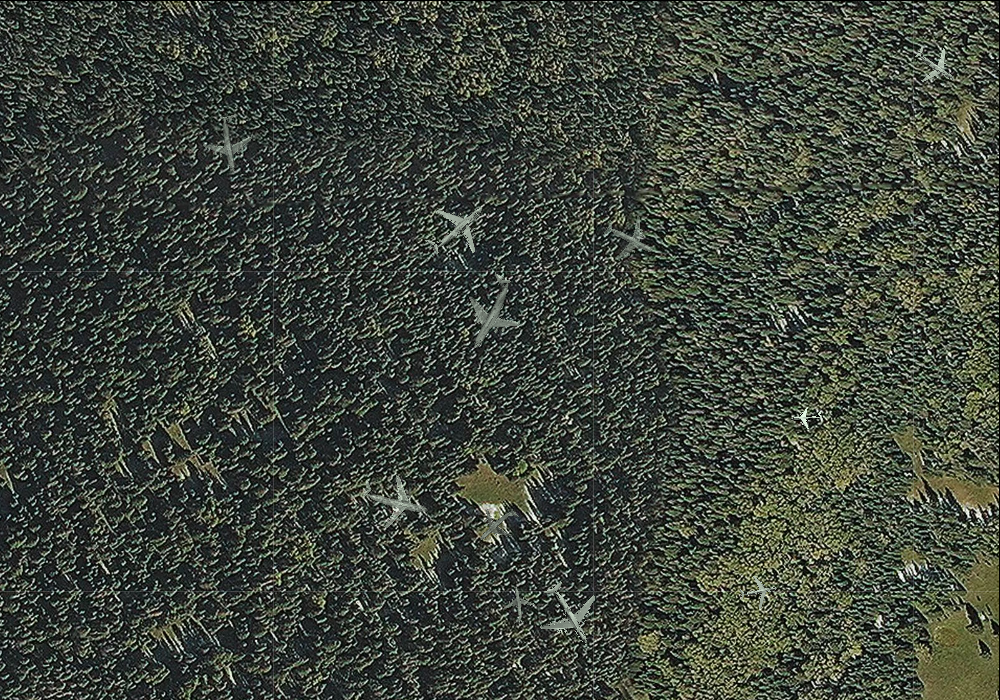plane: (440, 261, 539, 363), (411, 182, 502, 273), (524, 569, 614, 661), (354, 461, 435, 538), (594, 204, 665, 273), (196, 109, 262, 177), (904, 33, 967, 96), (467, 494, 529, 556), (736, 570, 780, 612), (498, 585, 537, 626), (790, 402, 822, 431)
